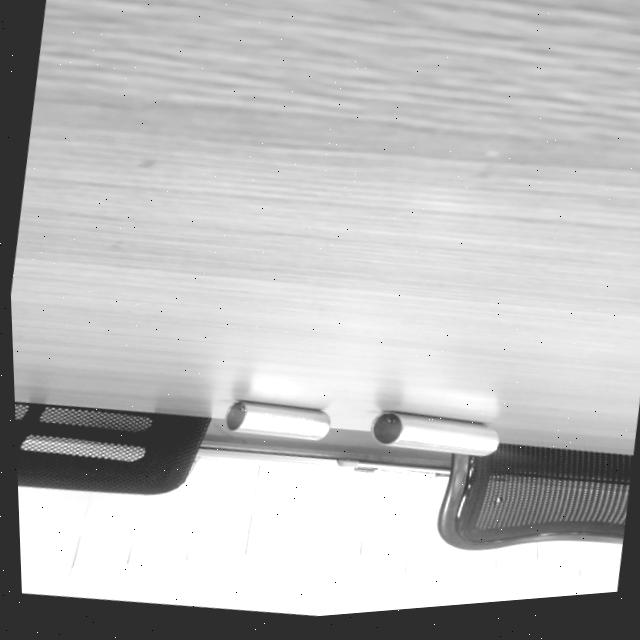Co_Lon: (369, 409, 501, 460)
Co_Nho: (224, 399, 332, 443)
